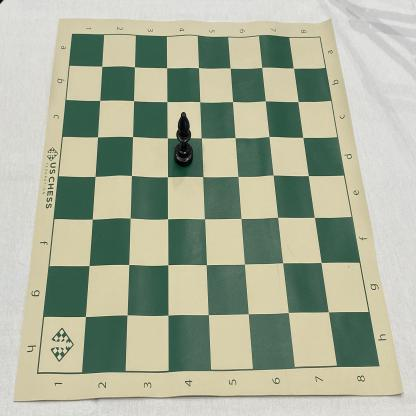black-bishop: (174, 112, 194, 167)
